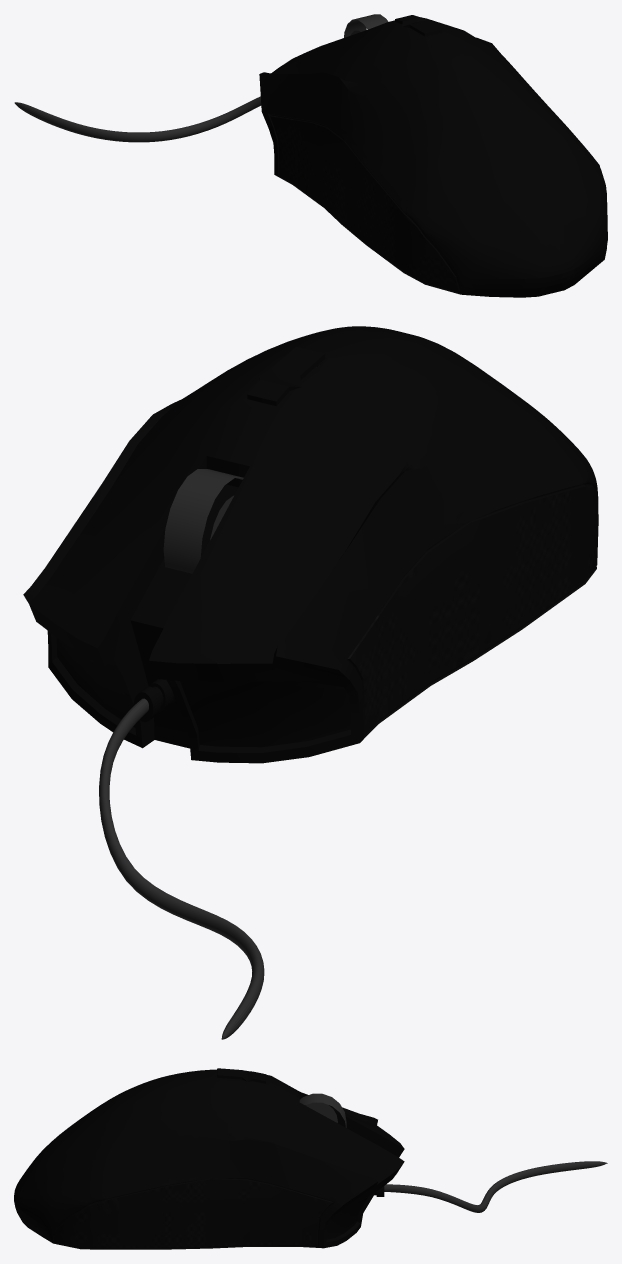
File: mouse-razer-viper-v3-pro.glb
3 views of the same model, one above another, from view 1: azimuth 30°, elevation 25°; view 2: azimuth 150°, elevation 25°; view 3: azimuth 270°, elevation 25° (orthographic). The views are drawn at different scales.
Parts seen in each view (by area): view 1: body; view 2: body; view 3: body.
Part boxes in pixels (x1,y1,x2,y2): body: (14, 14, 607, 297); body: (23, 326, 598, 1039); body: (14, 1068, 607, 1249).
Bounding box in the file's own units: 0.0574 × 0.0399 × 0.1272.
Materials: 4 (1 with a texture image).
